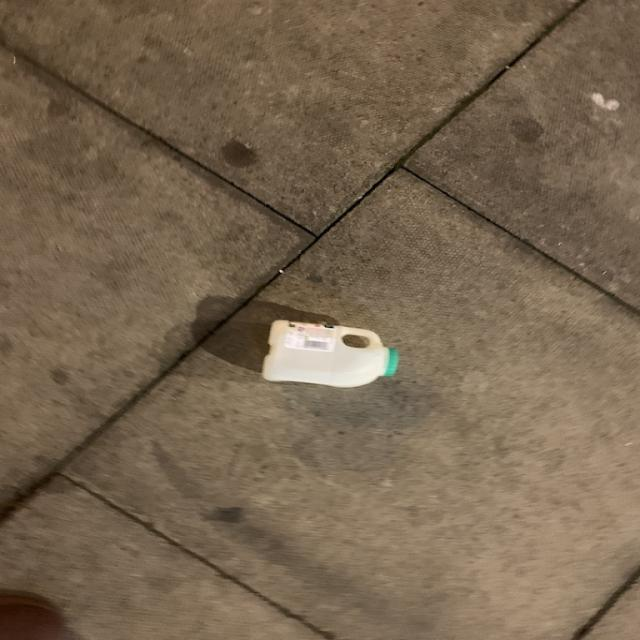litter: (264, 314, 402, 393)
